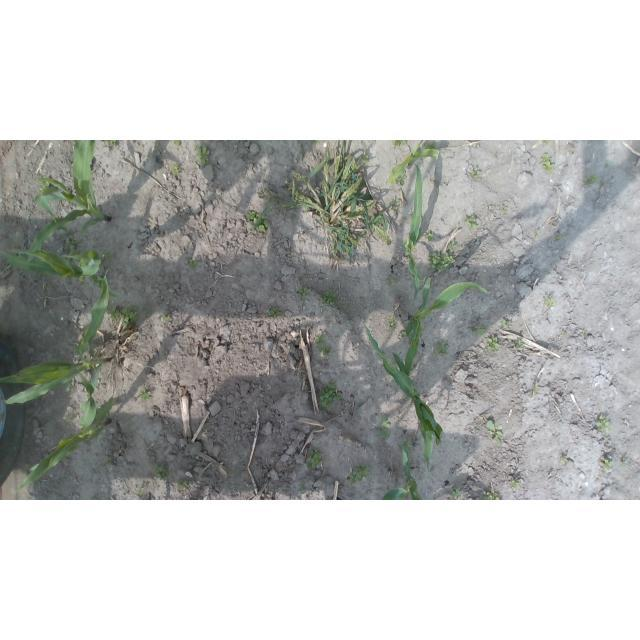Maize: (0, 269, 112, 402), (359, 320, 444, 481), (22, 140, 111, 285), (16, 366, 117, 493), (404, 277, 490, 373), (0, 246, 122, 298), (377, 441, 423, 500), (405, 161, 424, 300), (389, 140, 439, 184)
Weeds: (250, 140, 398, 273), (319, 380, 341, 409), (427, 253, 454, 274), (247, 211, 270, 232), (348, 464, 371, 484), (314, 334, 332, 359), (487, 420, 504, 446), (193, 144, 211, 166), (376, 414, 391, 438), (306, 450, 324, 470), (152, 461, 170, 481), (595, 413, 611, 435), (540, 153, 555, 175), (66, 237, 84, 255), (122, 307, 139, 326), (319, 290, 338, 306), (107, 307, 121, 324), (395, 169, 407, 187), (465, 215, 480, 229), (436, 341, 449, 357), (487, 337, 501, 351), (385, 316, 397, 332), (187, 257, 201, 270), (583, 174, 601, 184), (482, 490, 500, 500), (398, 441, 413, 453), (470, 166, 482, 180), (450, 486, 462, 500), (390, 198, 401, 213), (102, 249, 115, 261), (37, 176, 50, 188), (543, 295, 556, 307), (471, 325, 485, 336), (269, 308, 284, 318), (64, 409, 76, 421), (139, 388, 151, 400), (298, 287, 309, 298), (161, 312, 171, 324), (170, 163, 180, 175), (510, 480, 522, 490), (135, 486, 146, 496), (425, 231, 435, 242), (602, 457, 611, 469), (448, 240, 457, 252), (386, 276, 396, 286), (66, 381, 75, 392), (178, 480, 187, 491), (392, 140, 407, 146), (398, 330, 408, 339), (500, 319, 510, 328), (426, 142, 437, 150), (106, 141, 117, 148), (104, 458, 113, 466), (515, 339, 523, 348), (65, 230, 75, 237), (533, 383, 539, 394), (622, 458, 629, 467), (501, 205, 508, 213), (561, 454, 568, 462), (300, 482, 306, 491), (535, 230, 542, 237), (556, 235, 563, 242), (300, 369, 306, 377), (542, 140, 551, 145), (91, 420, 97, 427), (95, 406, 101, 413), (562, 331, 569, 337), (53, 350, 59, 356), (173, 141, 180, 146), (404, 239, 409, 245), (582, 331, 587, 336), (91, 497, 98, 500), (402, 309, 407, 313), (101, 342, 104, 344)
